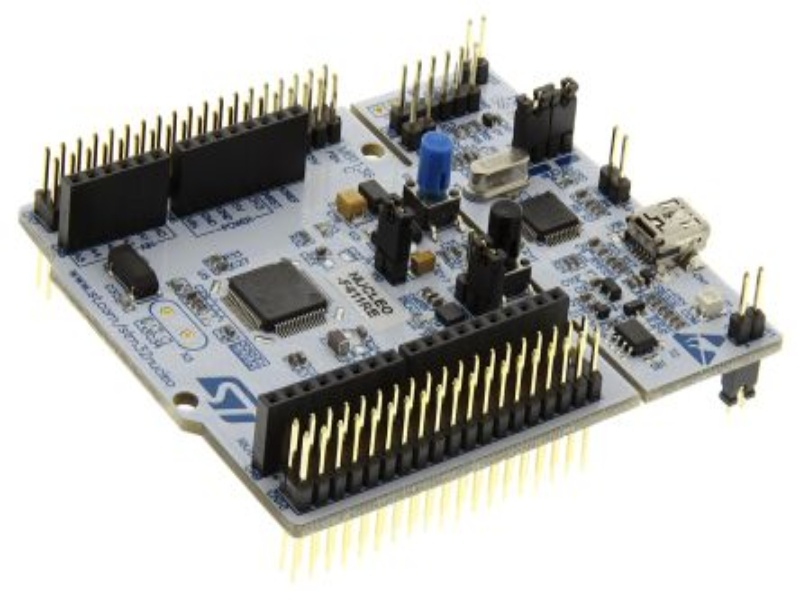stmnucleo: (25, 14, 794, 505)
